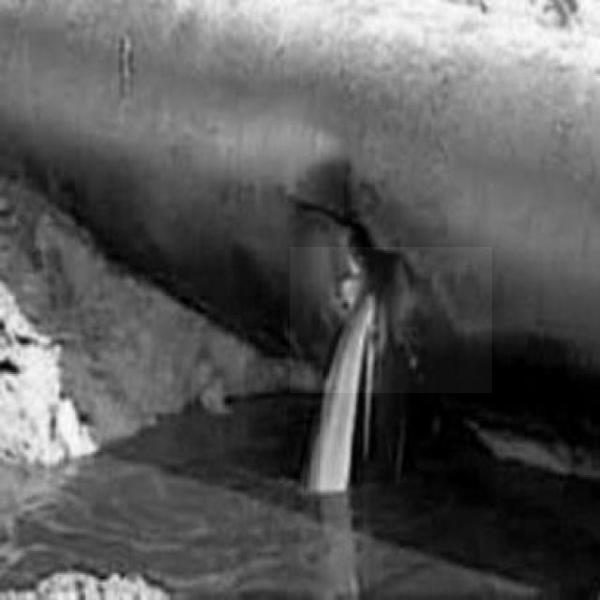water: (290, 247, 492, 393)
